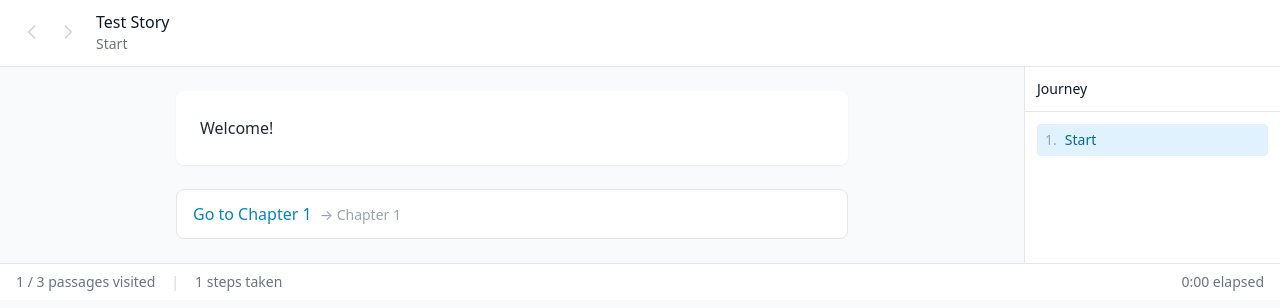
TwinePlayer › navigation › navigates to new passage when link clicked
Click the button "Go to Chapter 1→ Chapter 1" at (252, 214), box left=176, top=189, right=848, bottom=239
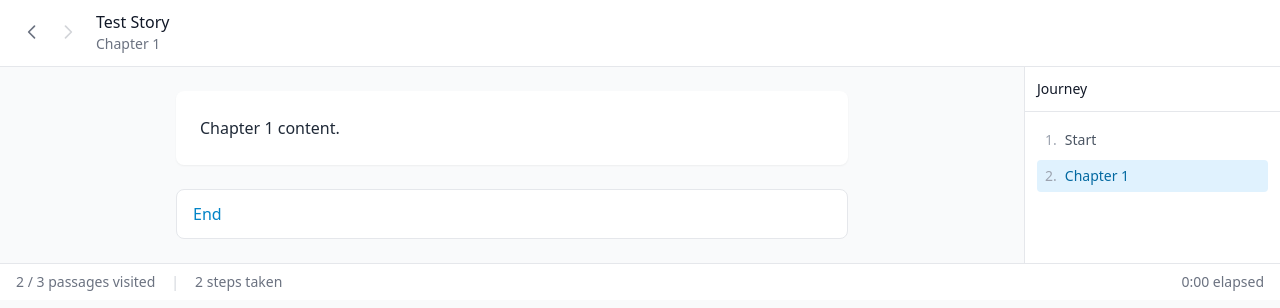
Check: the text "Chapter 1 content." is shown, box left=200, top=117, right=340, bottom=139
